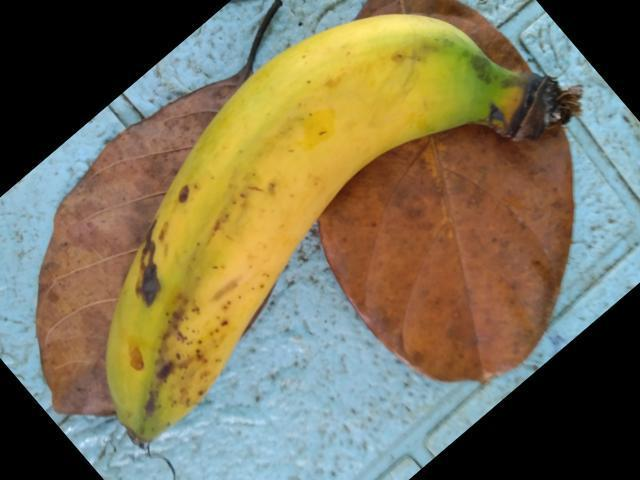ripe: (96, 7, 520, 434)
